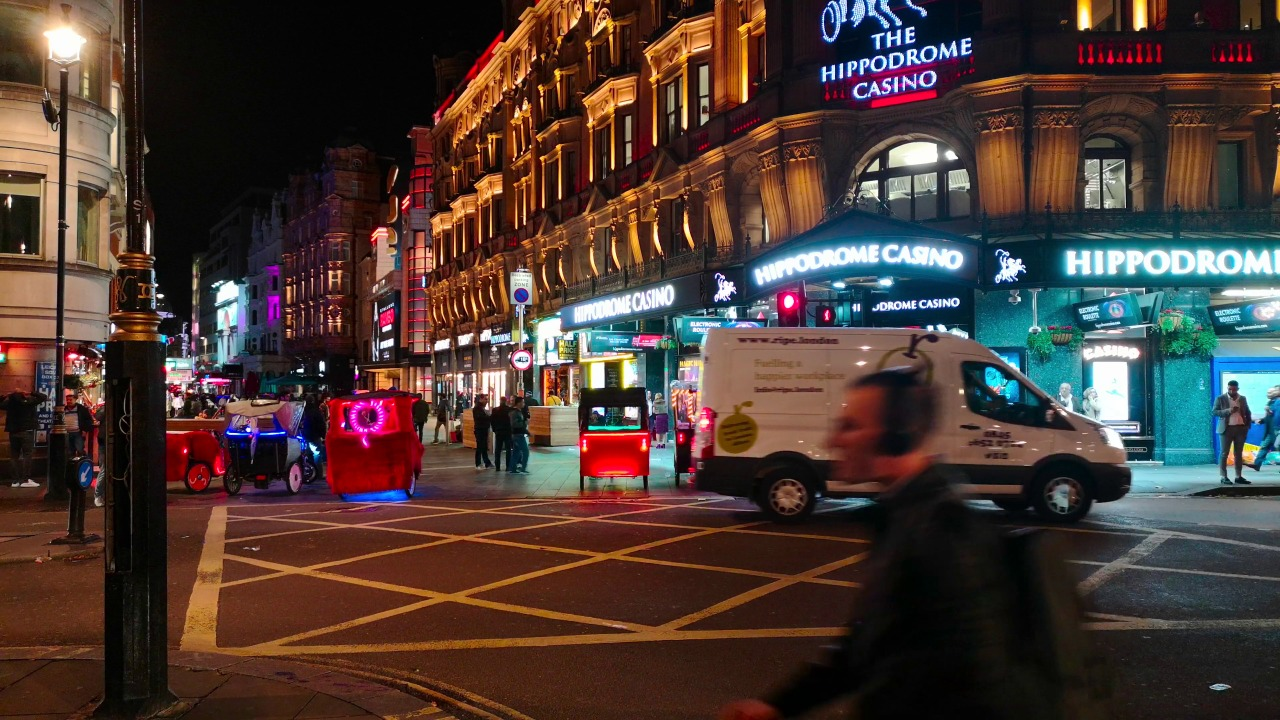person: (726, 359, 1092, 720), (1208, 377, 1257, 487), (1, 386, 46, 490), (90, 398, 118, 512), (508, 394, 536, 478), (490, 394, 517, 475), (471, 392, 498, 471), (61, 391, 94, 455), (1253, 385, 1274, 470), (409, 394, 431, 451), (652, 391, 671, 453), (431, 392, 452, 445), (638, 386, 656, 447), (1078, 385, 1106, 424), (1053, 378, 1081, 414), (1269, 384, 1280, 445), (318, 395, 335, 423), (523, 388, 540, 413), (456, 385, 472, 409), (544, 389, 559, 407), (504, 393, 518, 406), (559, 390, 570, 405), (473, 387, 486, 395)
